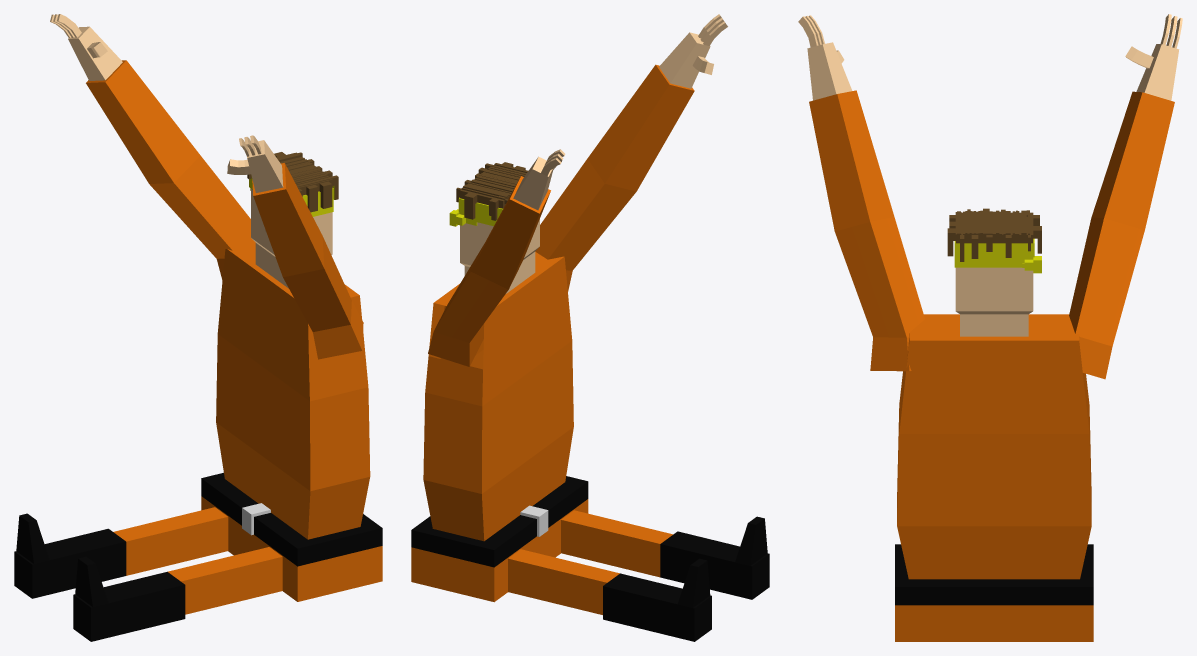
File: elektro_sitzend.fbx
3 views of the same model, side by side, from view 1: azimuth 30°, elevation 25°; view 2: azimuth 150°, elevation 25°; view 3: azimuth 270°, elevation 25° (orthographic). The views are drawn at different scales.
Parts seen in each view (by area): view 1: Cube.002, Cube.003, Cube.004, Cube.001, Cube; view 2: Cube.002, Cube.004, Cube, Cube.001, Cube.003; view 3: Cube.002, Cube.004, Cube.003.
Boxes of the visible parts, <box> form: Cube.002: <box>201,152,382,601</box>; Cube.003: <box>50,14,255,280</box>; Cube.004: <box>227,135,363,359</box>; Cube.001: <box>73,547,282,641</box>; Cube: <box>14,507,228,598</box>; Cube.002: <box>411,162,588,602</box>; Cube.004: <box>535,14,727,291</box>; Cube: <box>508,549,711,641</box>; Cube.001: <box>561,510,769,599</box>; Cube.003: <box>428,149,565,366</box>; Cube.002: <box>895,208,1093,641</box>; Cube.004: <box>798,15,924,371</box>; Cube.003: <box>1069,14,1182,379</box>.
Size of the model in its own units: 2197 by 3894 by 2525.
